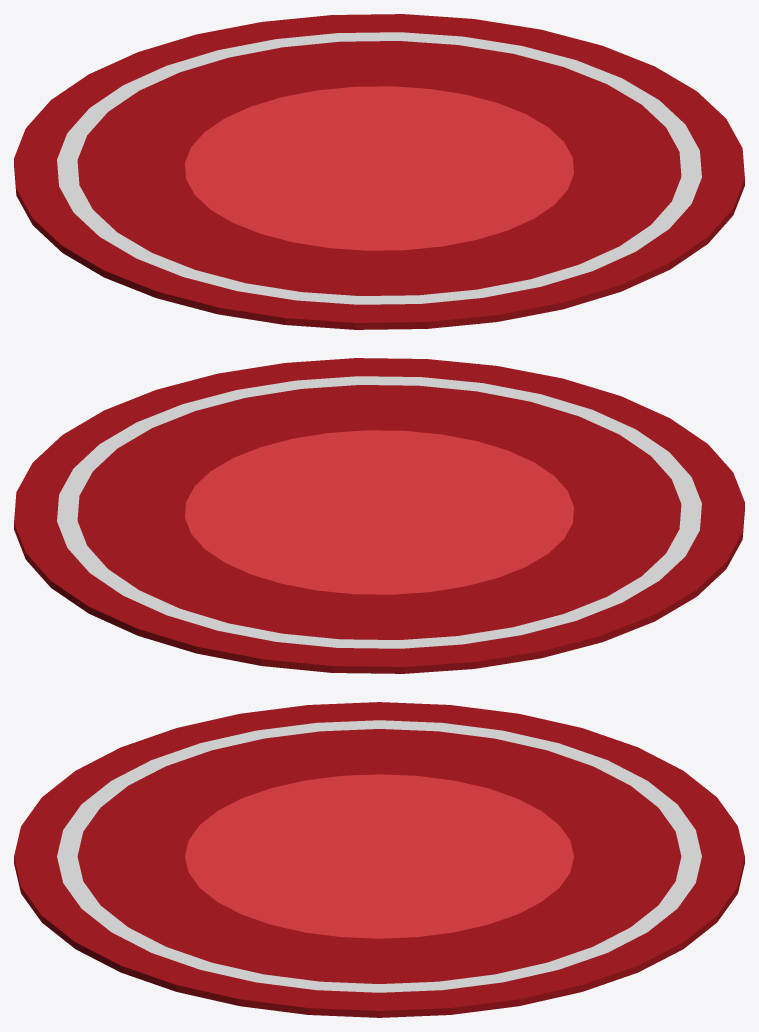
Rendered from tapete-2.fbx.
The picture shows the model from 3 angles, top to bottom: view 1: azimuth 30°, elevation 25°; view 2: azimuth 150°, elevation 25°; view 3: azimuth 270°, elevation 25°; orthographic projection.
Parts seen in each view (by area): view 1: Tapete-2; view 2: Tapete-2; view 3: Tapete-2.
Part boxes in pixels (<box>): Tapete-2: <box>14,14,744,329</box>; Tapete-2: <box>14,358,744,673</box>; Tapete-2: <box>14,702,744,1017</box>.
Bounding box in the file's own units: 1377 × 14.46 × 1377.
